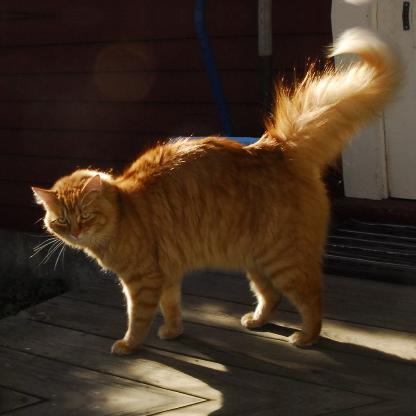Cat: (26, 26, 402, 354)
